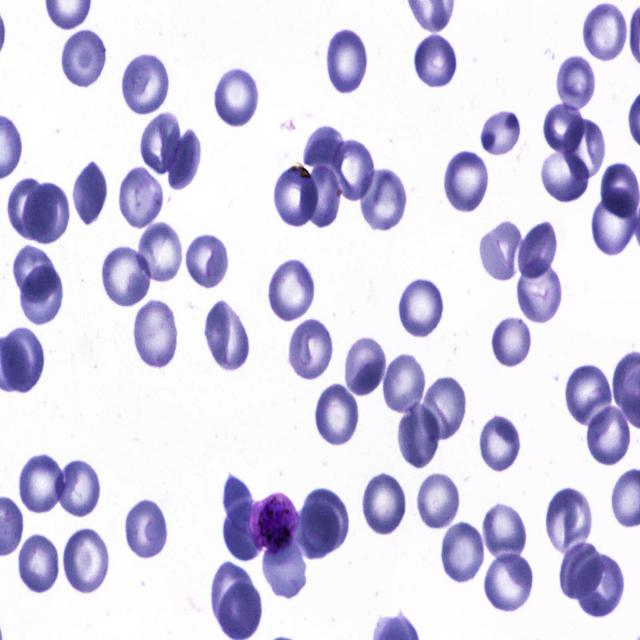difficult: (249, 491, 300, 558)
red blood cell: (130, 296, 180, 372), (562, 361, 614, 427), (99, 242, 151, 308), (360, 469, 410, 537), (268, 259, 317, 328), (358, 168, 409, 234), (202, 298, 248, 371), (61, 527, 110, 595), (420, 374, 469, 442), (397, 275, 448, 340), (17, 449, 67, 515), (396, 399, 442, 470), (8, 177, 58, 242), (590, 190, 639, 256), (483, 550, 535, 612), (211, 566, 257, 636), (325, 27, 371, 97), (442, 148, 490, 215), (120, 52, 170, 116), (301, 488, 350, 553), (212, 66, 262, 129), (574, 554, 623, 618), (544, 488, 593, 552), (287, 315, 335, 380), (516, 259, 564, 324), (314, 382, 361, 448), (60, 28, 110, 90), (0, 328, 46, 394), (272, 164, 318, 229), (136, 222, 184, 284), (14, 534, 62, 596), (382, 350, 426, 417), (118, 166, 164, 230), (479, 221, 525, 285), (122, 498, 170, 559), (183, 230, 230, 292), (562, 116, 608, 179), (330, 138, 376, 201), (482, 501, 528, 563), (439, 522, 484, 585), (415, 471, 462, 531), (582, 3, 628, 64), (24, 182, 70, 243), (260, 542, 308, 600), (54, 458, 100, 518), (586, 404, 630, 466), (540, 150, 590, 204), (70, 159, 110, 226), (303, 162, 342, 230), (141, 110, 181, 176), (345, 335, 384, 402), (412, 34, 458, 90), (12, 246, 58, 302), (478, 412, 520, 473), (559, 542, 603, 600), (21, 265, 63, 324), (599, 161, 640, 220), (223, 499, 261, 562), (518, 221, 558, 280), (556, 55, 596, 111), (167, 128, 202, 192), (478, 106, 522, 156), (542, 103, 586, 152), (492, 318, 534, 368), (303, 125, 345, 169)
